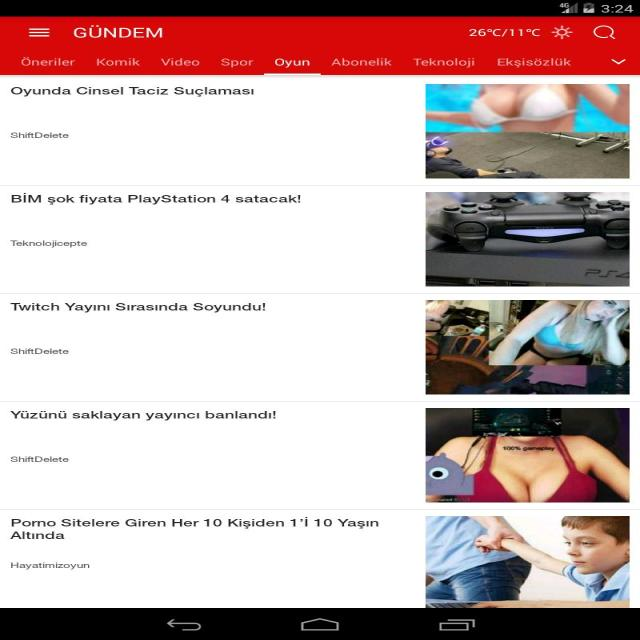button: (0, 74, 639, 183), (1, 402, 639, 510), (1, 294, 640, 400), (1, 186, 637, 291), (0, 512, 639, 608), (490, 53, 580, 74), (325, 54, 401, 76), (409, 53, 481, 74), (14, 55, 82, 74), (154, 54, 208, 76), (88, 55, 148, 74), (266, 55, 318, 75), (217, 56, 259, 74), (592, 24, 620, 42), (29, 25, 52, 44), (605, 56, 632, 69)
heading: (7, 516, 380, 542), (8, 190, 302, 206), (10, 299, 269, 316), (8, 408, 278, 422), (7, 85, 257, 99)
image: (426, 84, 630, 179), (424, 192, 630, 286), (426, 407, 629, 502), (425, 514, 628, 609), (426, 300, 630, 394)
text: (462, 23, 574, 43), (8, 238, 88, 250), (8, 560, 91, 570), (10, 453, 70, 464), (8, 346, 70, 356), (8, 130, 70, 140)
